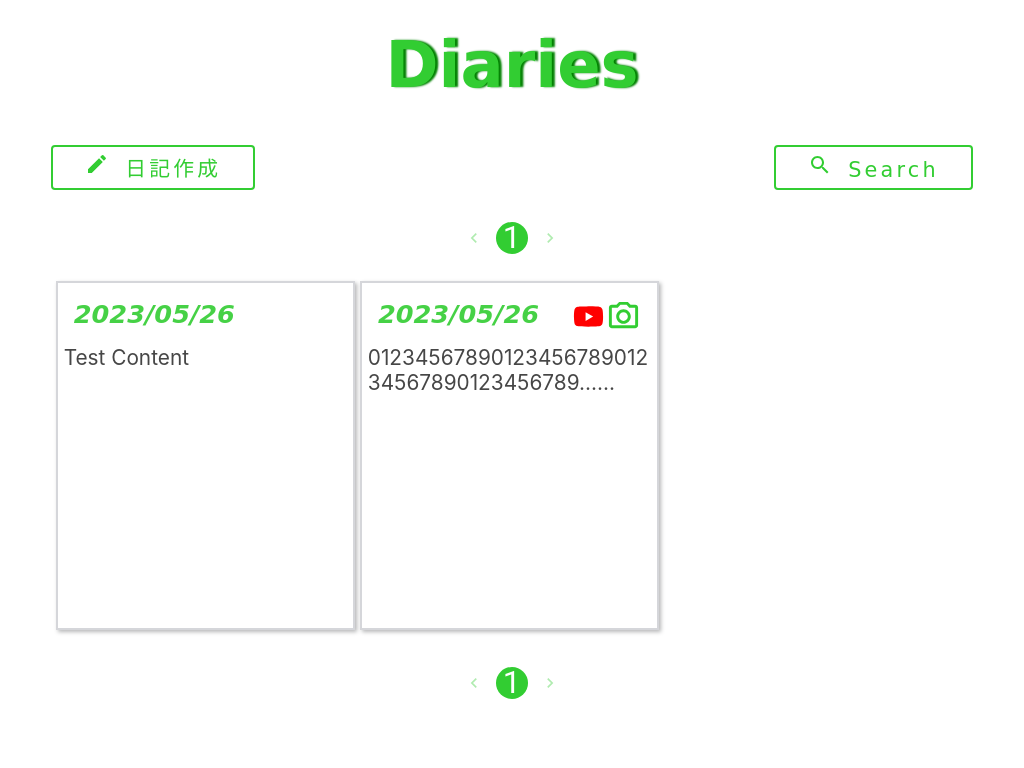
LoginHome › DiaryDialog初期値(タグなし, 画像なし, 動画urlなし) › MenuBarの削除クリックで確認用Dialog表示
This screenshot has width=1024, height=768.
(page scrolled)
Click the list item with test id "diary-0": (205, 455) [56, 280, 355, 630]
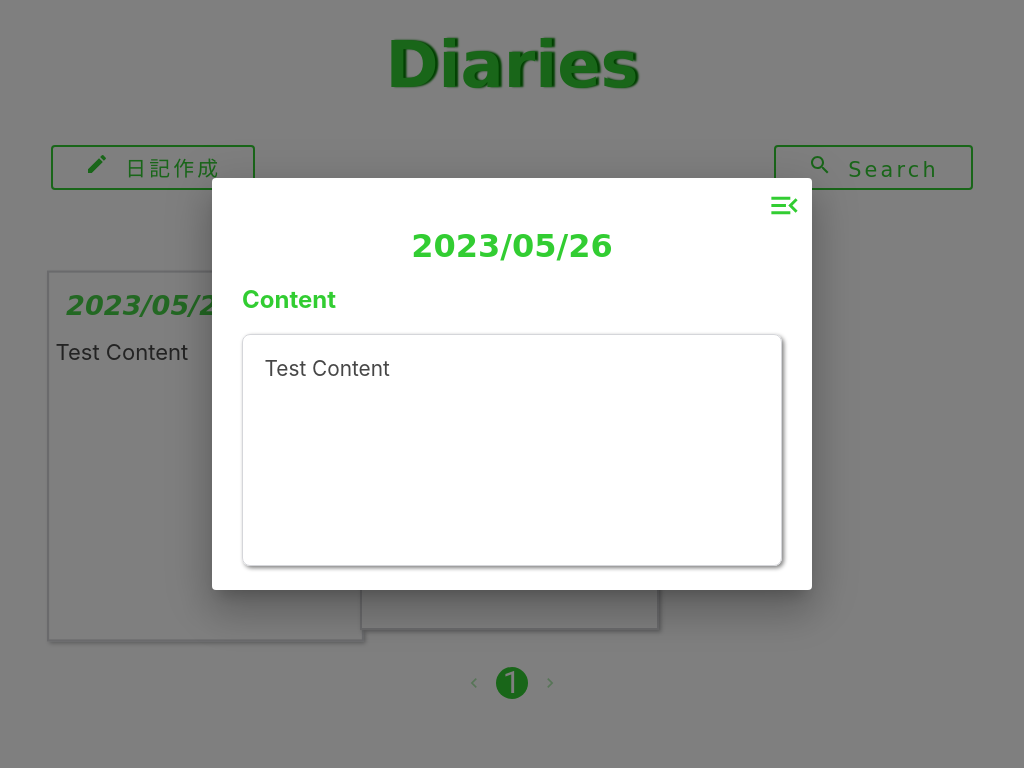
Click the element with test id "menuOpenIcon": (785, 205) [767, 188, 802, 223]
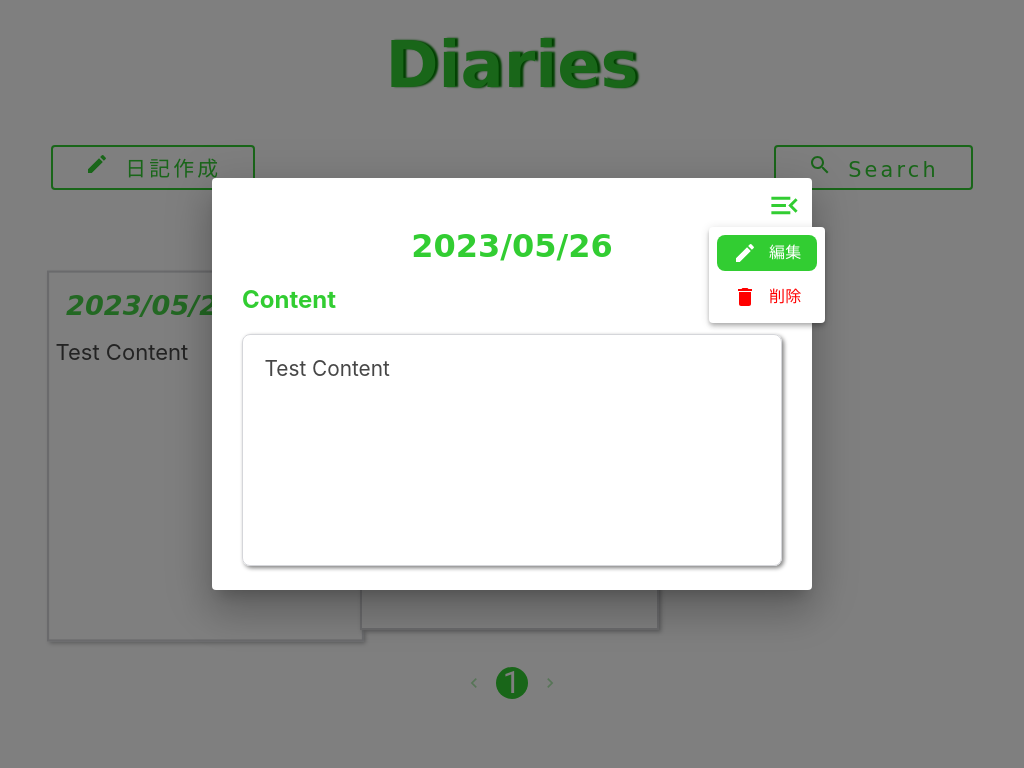
Click the menu item with test id "MenuItemDiaryDelete": (767, 297) [717, 279, 817, 315]
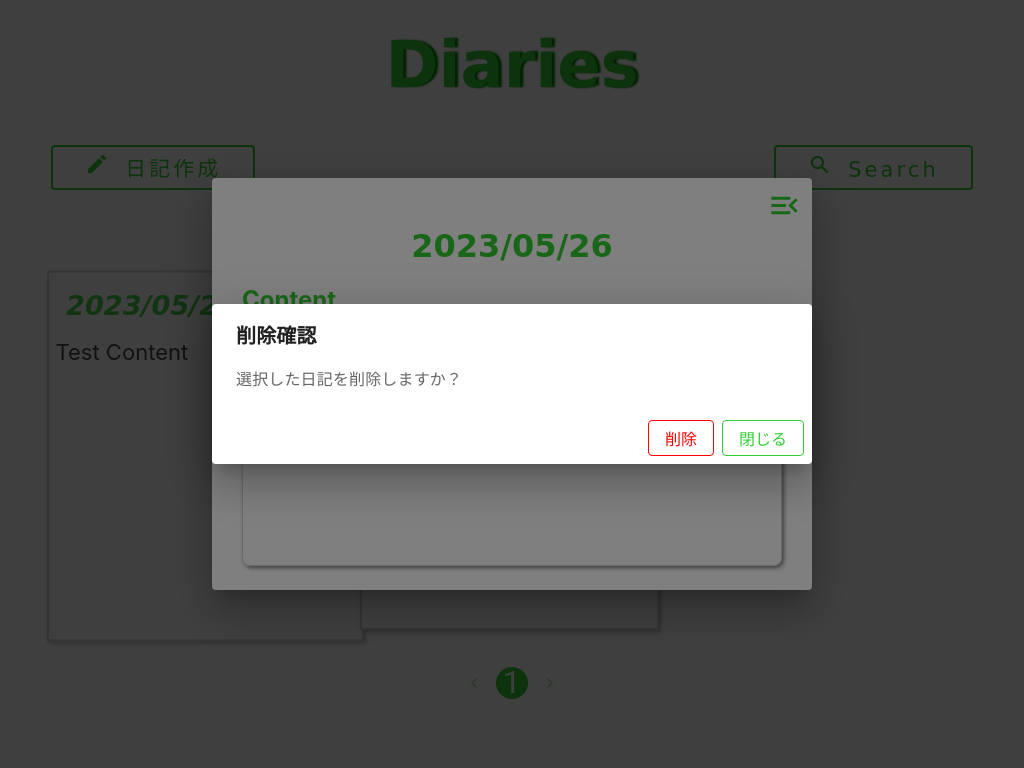
Expected: the element with test id "confirmDialog" is shown
